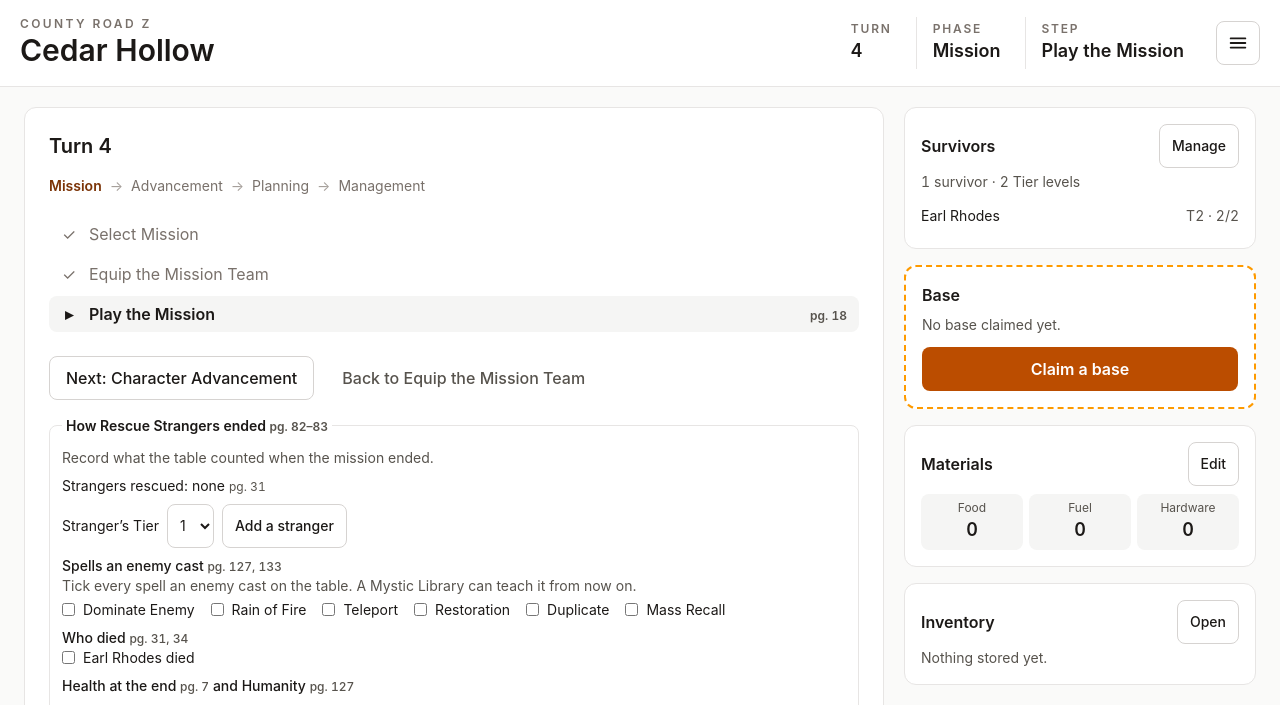
the spells an enemy cast, on a mission’s outcome (R112; Z7-9) › are ticked in a Magic campaign, and recorded with it
This screenshot has width=1280, height=705.
Click the checkbox labelled "Mass Recall": x=632, y=610 [625,603,638,616]
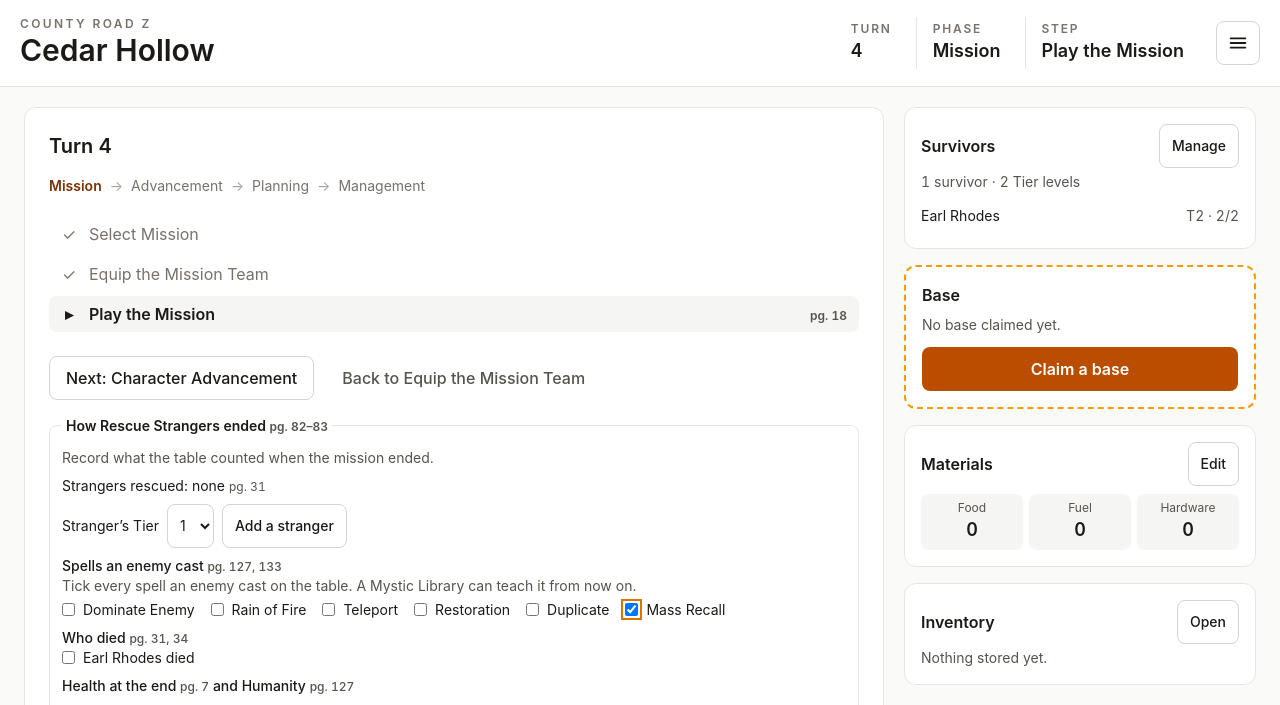
Click the checkbox labelled "Teleport": x=329, y=610 [322,603,335,616]
(page scrolled)
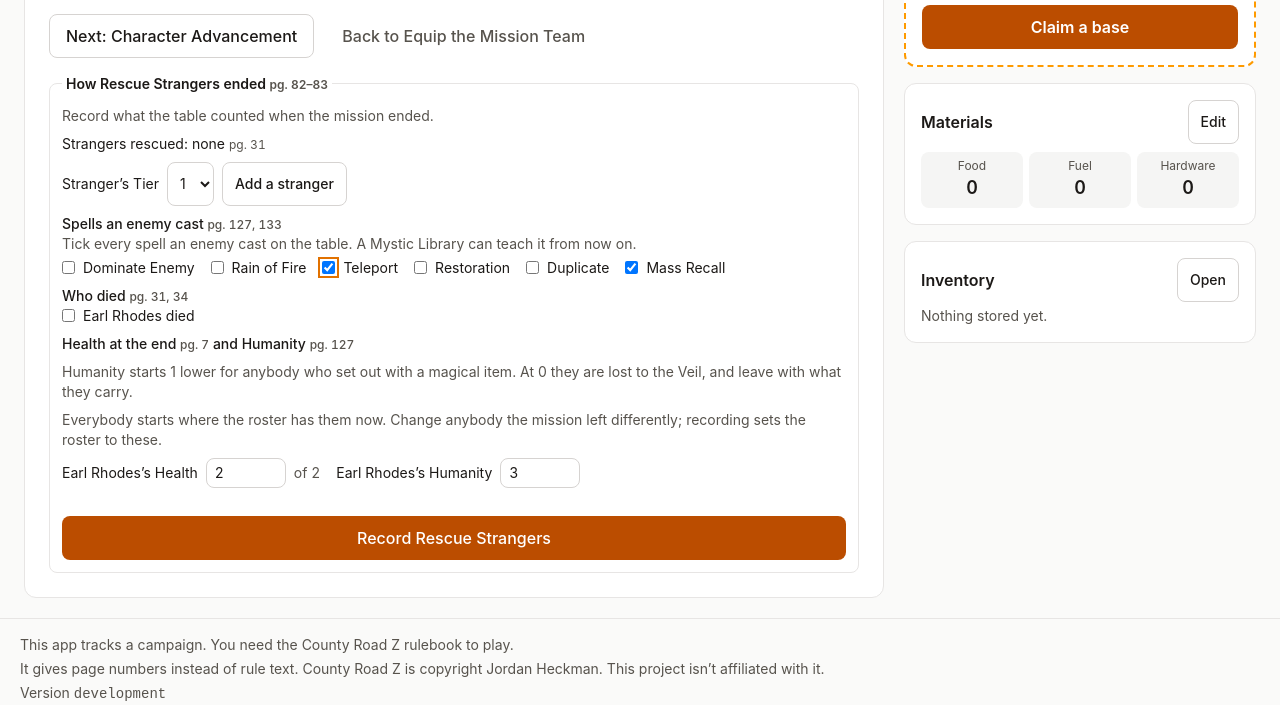
Click the button "Record Rescue Strangers": x=454, y=538 [62,516,846,560]
(page scrolled)
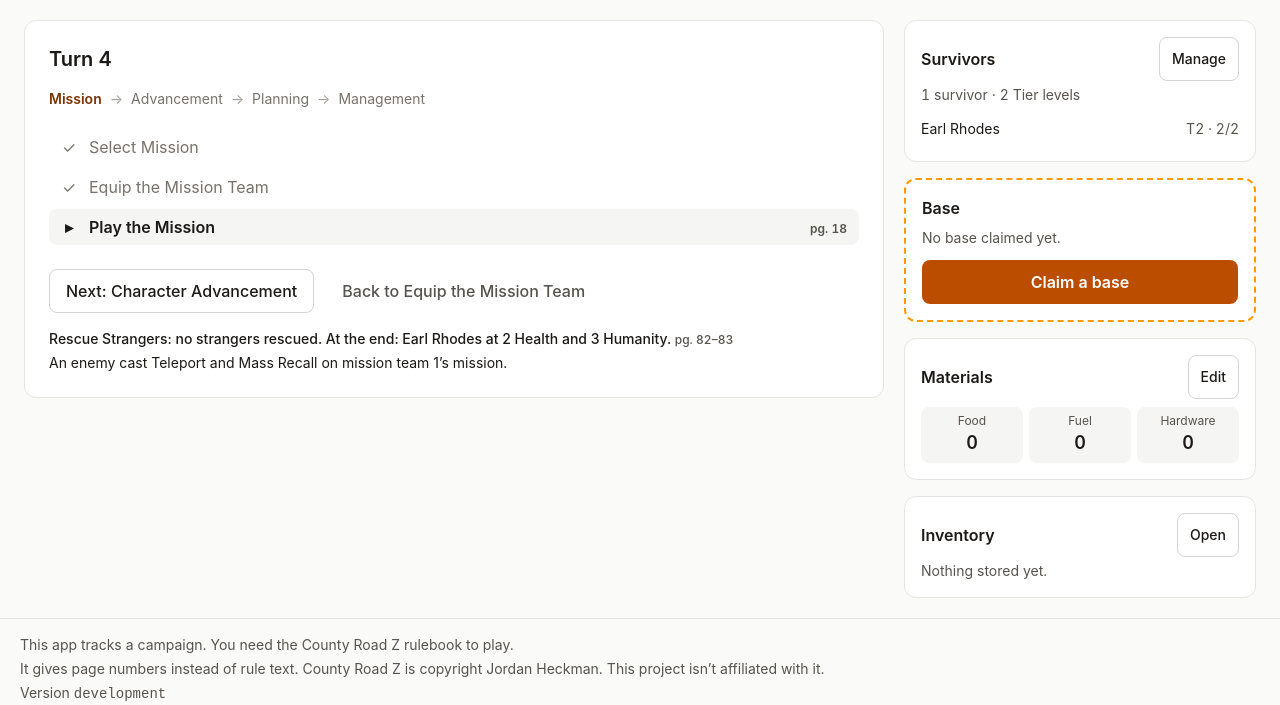
Now the element that starts with "Turn" shows "An enemy cast Teleport and Mass Recall on mission team 1’s mission.", box [49,354,507,370]
